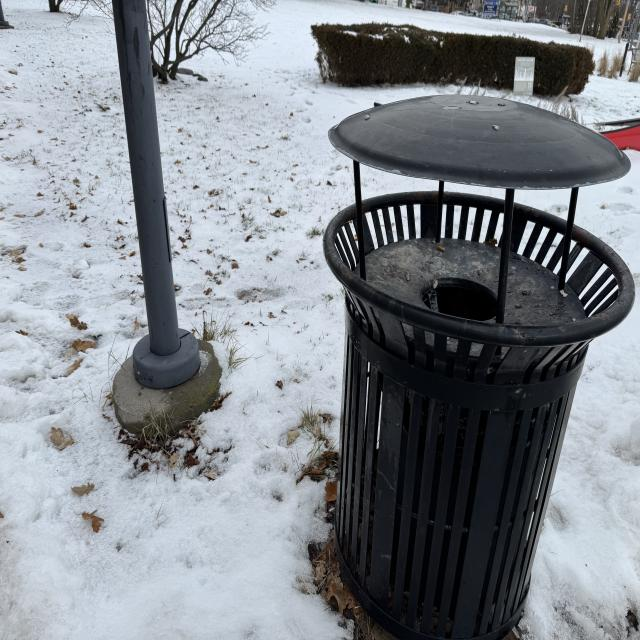Dustbin: (332, 95, 635, 640)
